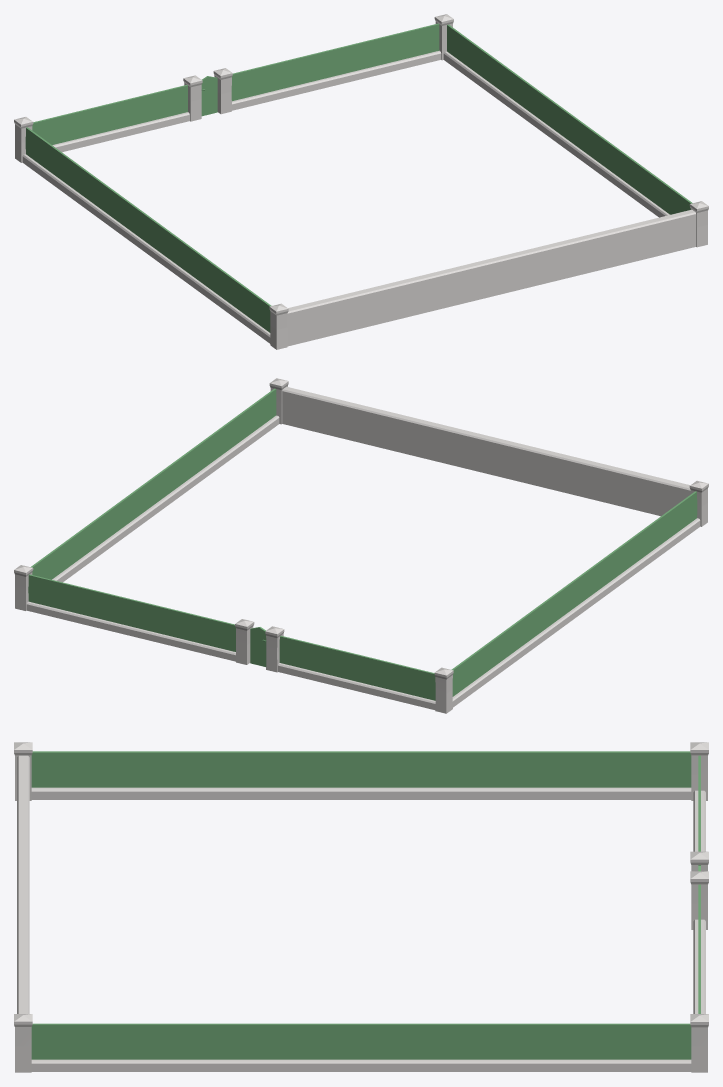
The model's file is Fence 1.fbx.
3 renders of one model, top to bottom at view 1: azimuth 30°, elevation 25°; view 2: azimuth 150°, elevation 25°; view 3: azimuth 270°, elevation 25°, orthographic. The views are drawn at different scales.
Visible parts, largest first — view 1: fence_stone_tower__18_; view 2: fence_stone_tower__18_; view 3: fence_stone_tower__18_.
Boxes of the visible parts, box(x1,y1,x2,y2) form: fence_stone_tower__18_: box(14, 14, 708, 349); fence_stone_tower__18_: box(14, 378, 708, 713); fence_stone_tower__18_: box(14, 742, 708, 1072).
Size of the model in its own units: 2349 by 211 by 2466.
